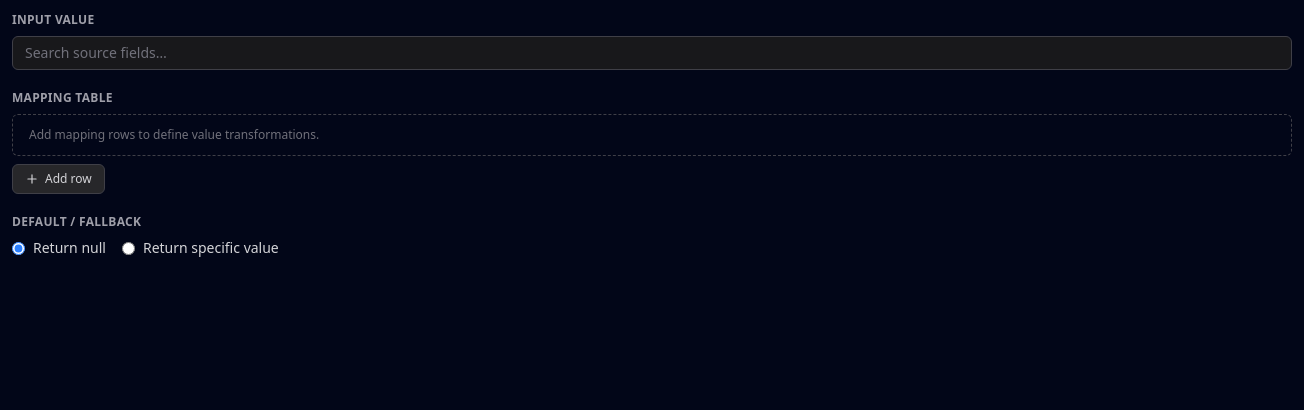
Test case: ValueMapModeBuilder — mapping table › adding two rows shows row-0 and row-1
Click the button with test id "value-map-add-row-btn" at [58, 179], box [12,164,105,194]
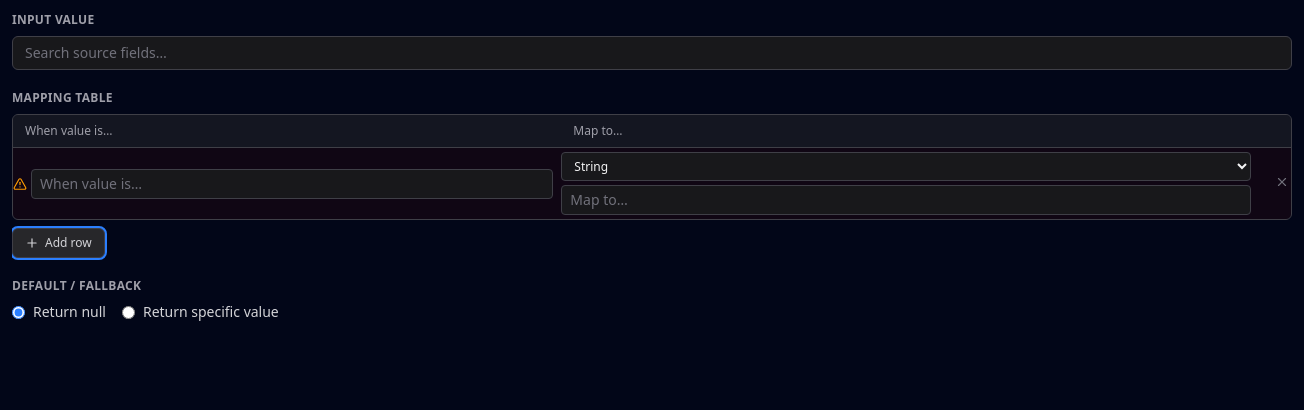
Click the button with test id "value-map-add-row-btn" at [58, 243], box [12,228,105,258]
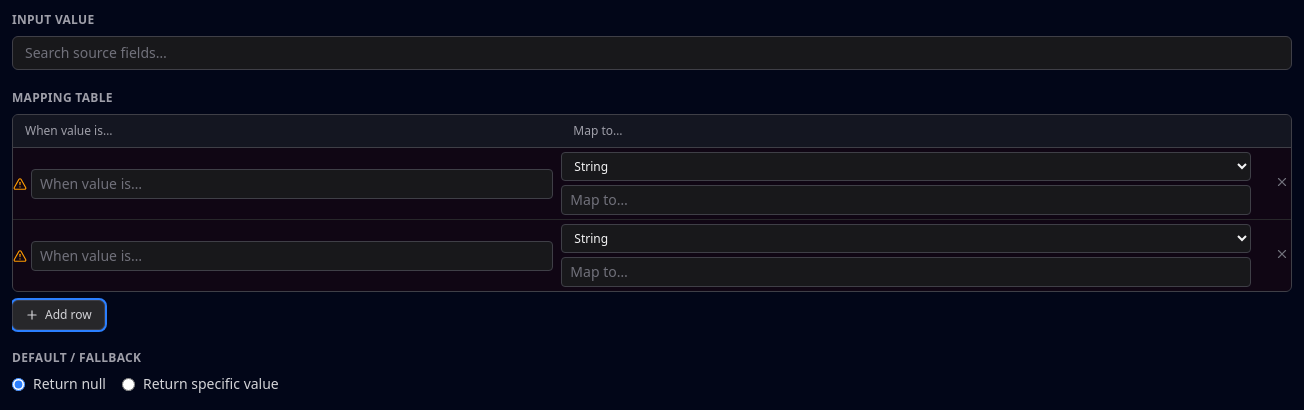
Now the row with test id "value-map-row-0" is shown, box [13,148,1291,220]
Now the row with test id "value-map-row-1" is shown, box [13,220,1291,291]
